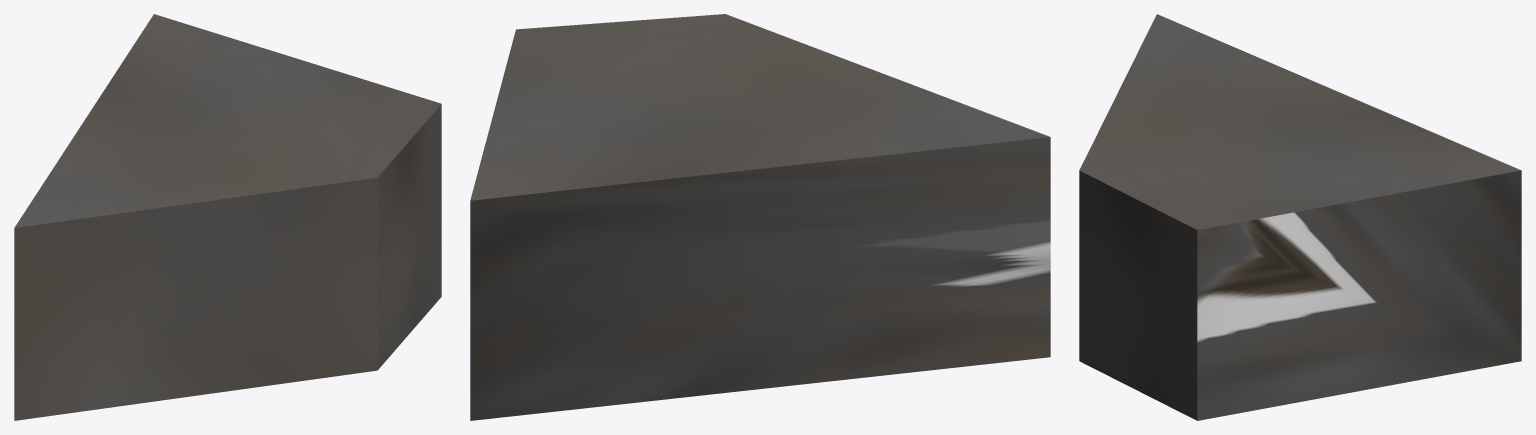
Rendered from ishi_01_10_8.fbx.
The picture shows the model from 3 angles, left to right: view 1: azimuth 30°, elevation 25°; view 2: azimuth 150°, elevation 25°; view 3: azimuth 270°, elevation 25°; orthographic projection. The views are drawn at different scales.
Parts seen in each view (by area): view 1: polySurface4; view 2: polySurface4; view 3: polySurface4.
Boxes of the visible parts, x1,y1,x2,y2 form: polySurface4: (14,14,441,420); polySurface4: (470,14,1050,420); polySurface4: (1079,14,1521,420).
Size of the model in its own units: 11.32 by 4.66 by 9.79.
1 material, 1 textured.
